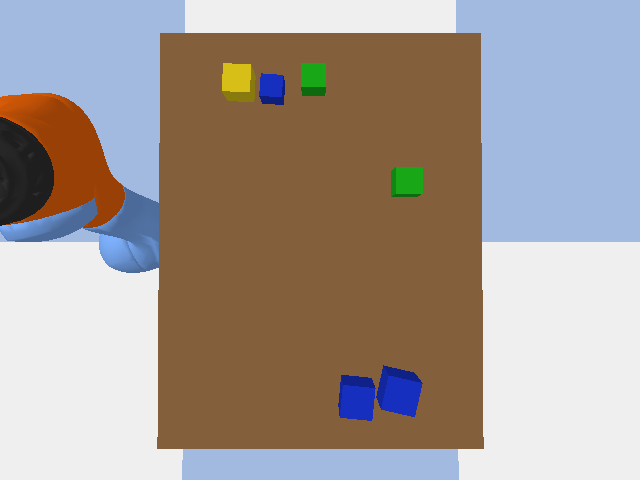blue_obj: (376, 365, 422, 416), (338, 375, 375, 420), (259, 73, 284, 104)
green_obj: (391, 167, 422, 196), (301, 63, 325, 95)
yellow_obj: (222, 63, 255, 101)
